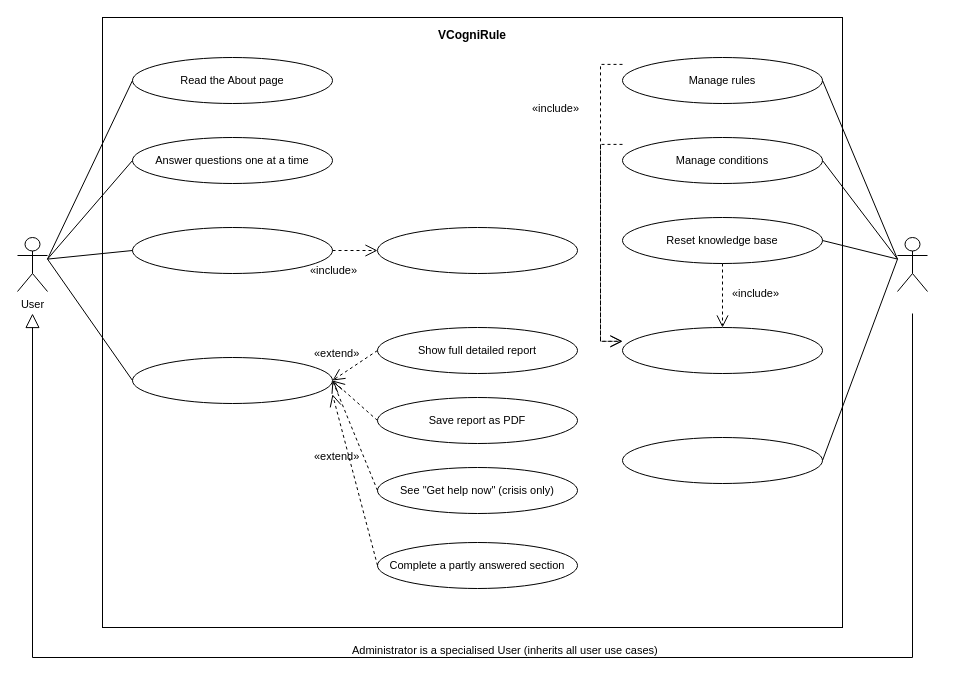
Some shapes in this 962 by 689 pixel diagram are drawn without their labels. Each missing label, with the centre of its shape:
"Administrator" goes at (x=912, y=264).
"Complete the Safety Check" goes at (x=477, y=250).
"Log in" goes at (x=722, y=350).
"Log out" goes at (x=722, y=460).
"Submit screening" goes at (x=232, y=250).
"View the report summary" goes at (x=232, y=380).
